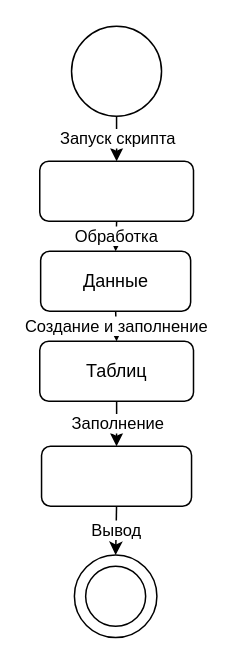
The diagram is 234 pixels wide and 665 high, and some of its shapes have lost their labels. The shapes that lost their labels are listed below. From the top down, each one's box as (x1, y1, x2, y2) in pixels, then its label:
(38, 160, 194, 221): Инициализация
(40, 445, 192, 506): Результат заполнения и путь к таблице
